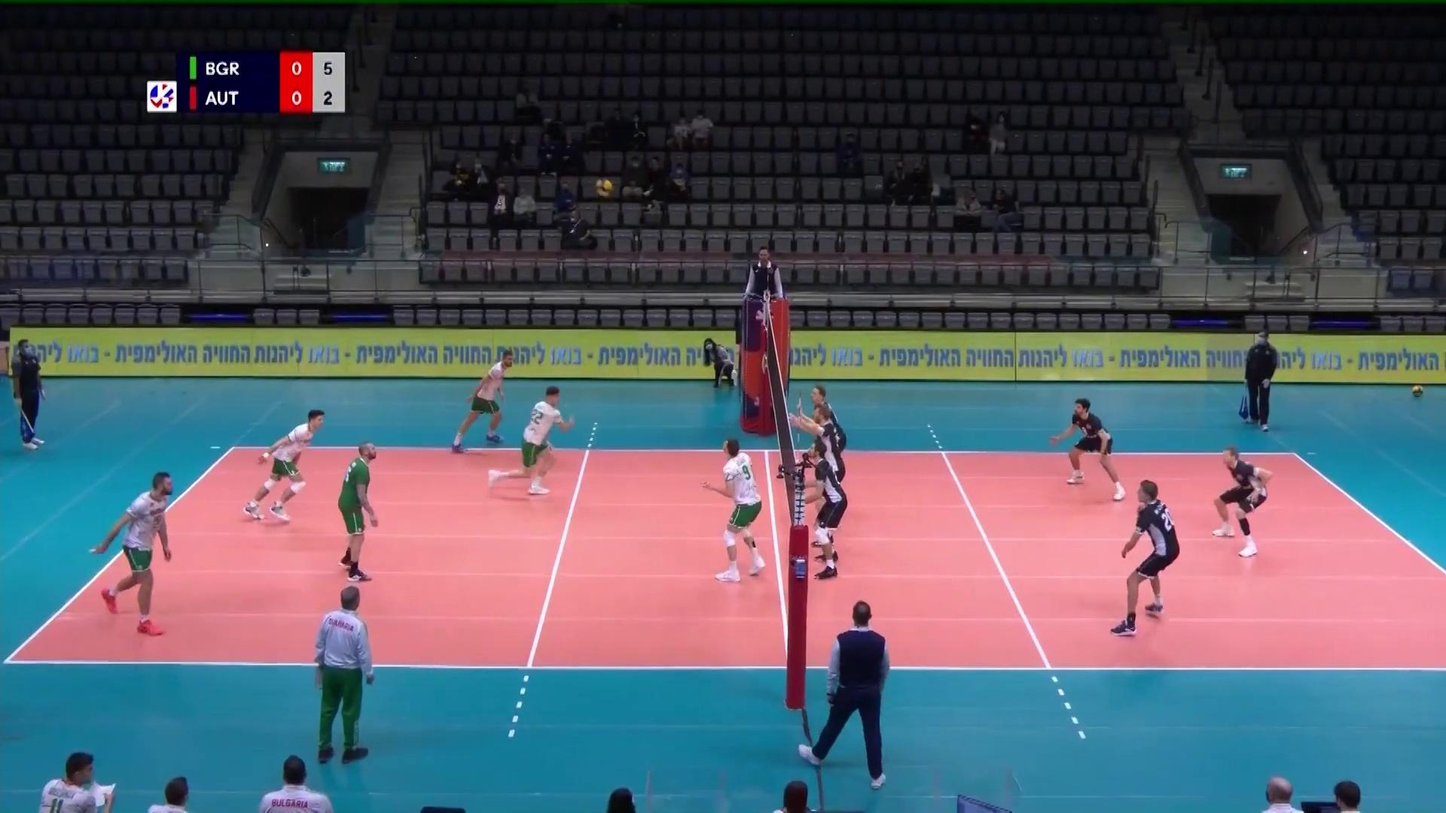ball: (594, 178, 614, 199)
